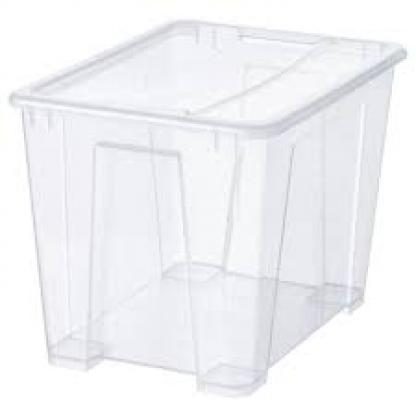plastic_box: (6, 6, 414, 403)
